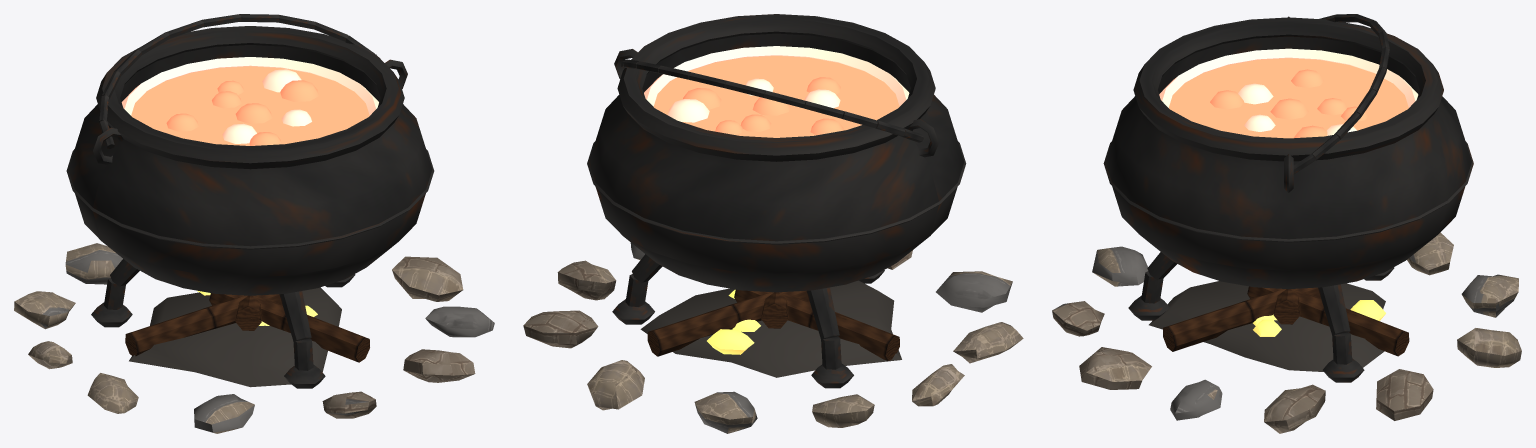
File: cauldron_red.glb
The picture shows the model from 3 angles, left to right: view 1: azimuth 30°, elevation 25°; view 2: azimuth 150°, elevation 25°; view 3: azimuth 270°, elevation 25°; orthographic projection. The views are drawn at different scales.
Visible parts, largest first — view 1: cauldron_red; view 2: cauldron_red; view 3: cauldron_red.
Boxes of the visible parts, x1,y1,x2,y2 form: cauldron_red: (14,14,494,433); cauldron_red: (523,14,1023,433); cauldron_red: (1052,14,1521,433).
Size of the model in its own units: 1.74 by 1.19 by 1.74.
Materials: 7 (3 with a texture image).
